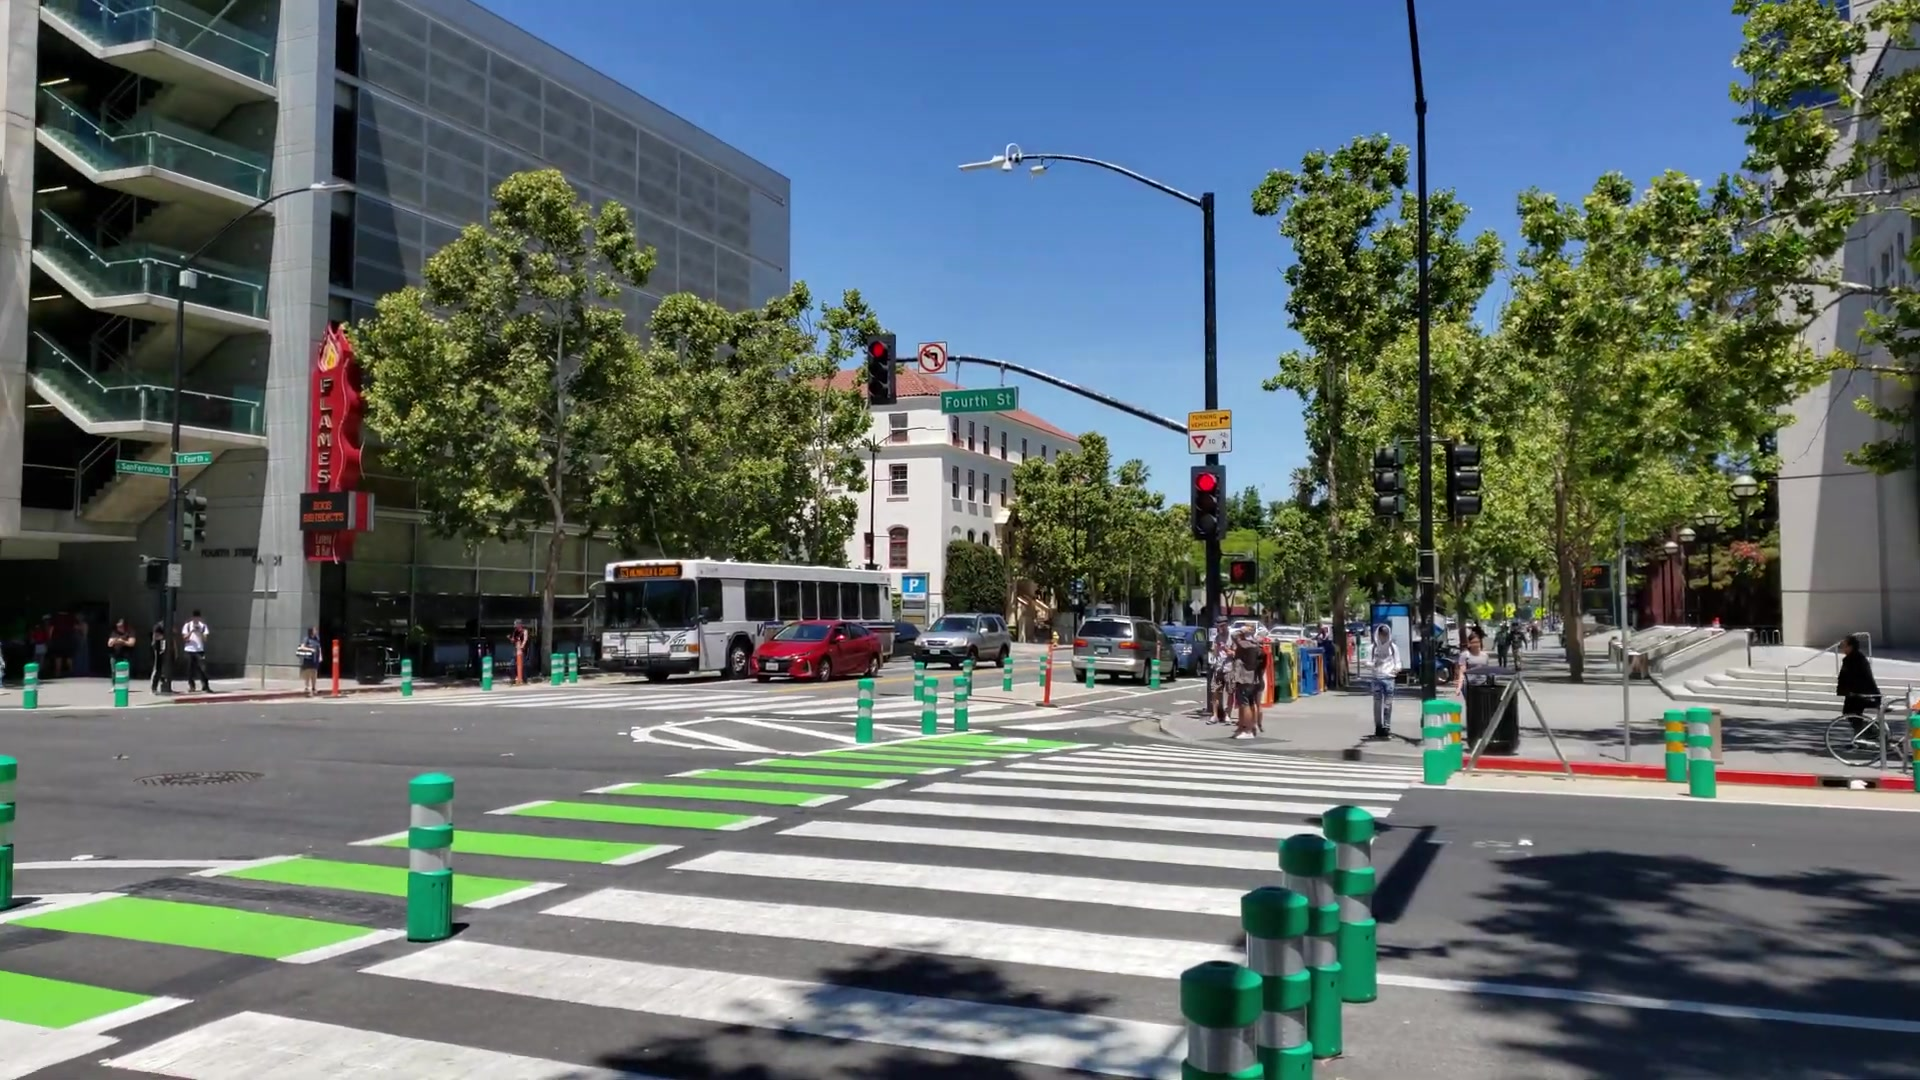vehicle: (752, 621, 884, 676), (1069, 617, 1179, 680), (909, 611, 1013, 667)
